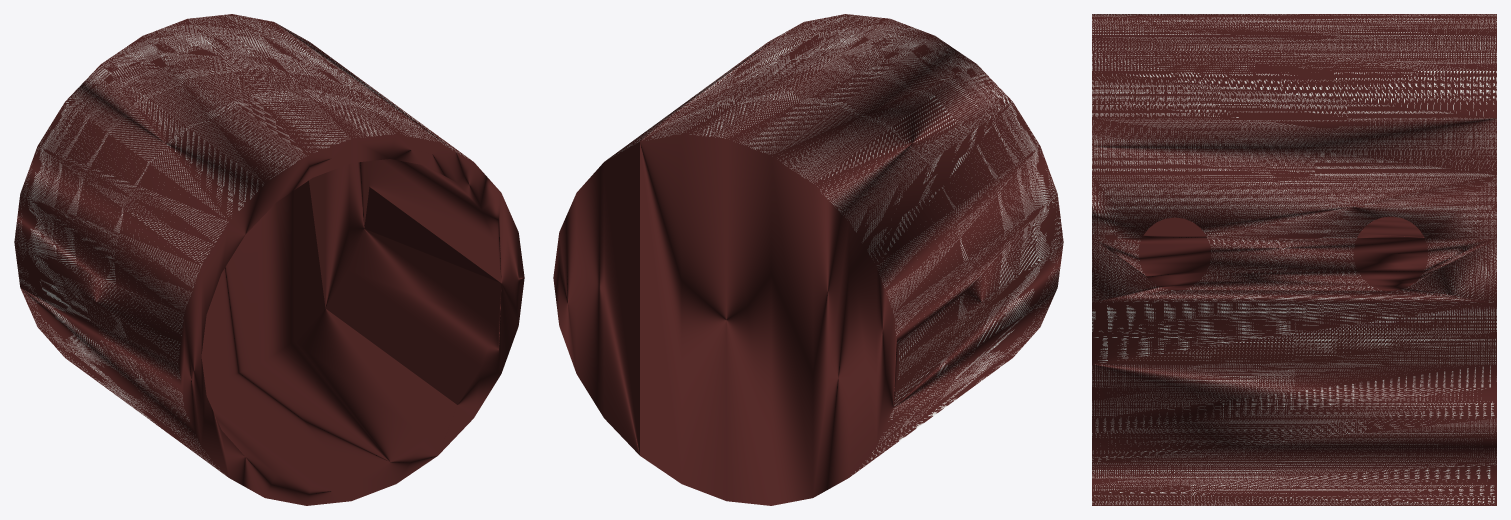
Rendered from model_align.obj.
3 views of the same model, side by side, from view 1: azimuth 30°, elevation 25°; view 2: azimuth 150°, elevation 25°; view 3: azimuth 270°, elevation 25° (orthographic). The views are drawn at different scales.
Size of the model in its own units: 0.0662 by 0.0662 by 0.0543.
